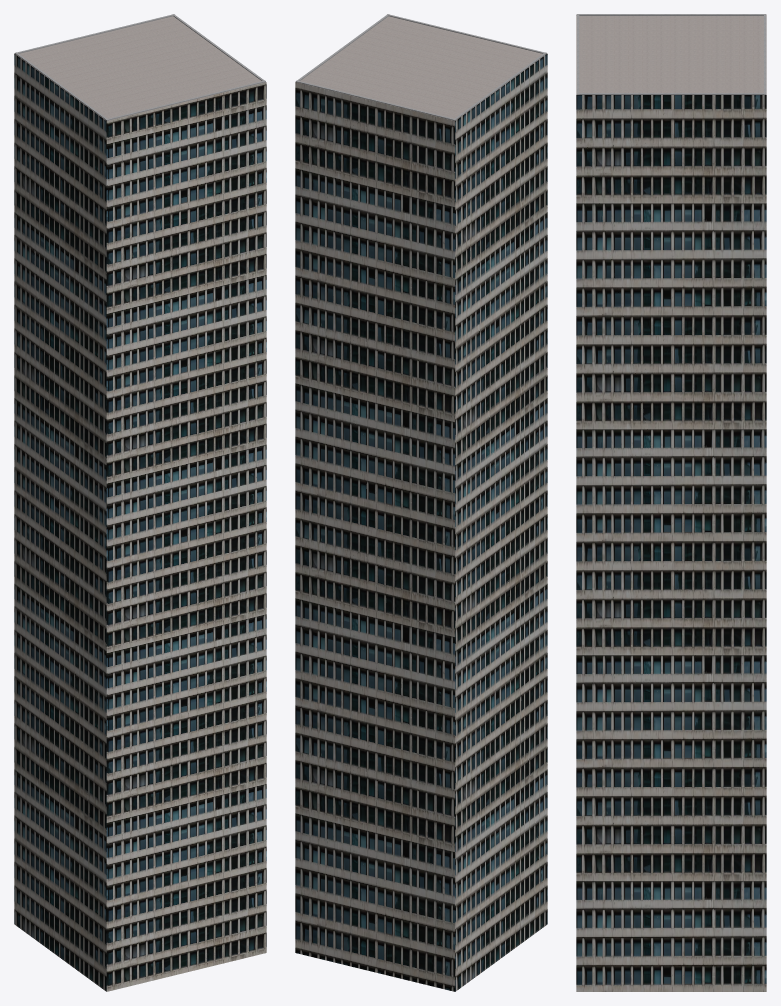
File: SkyScraper2.fbx
3 views of the same model, side by side, from view 1: azimuth 30°, elevation 25°; view 2: azimuth 150°, elevation 25°; view 3: azimuth 270°, elevation 25° (orthographic). The views are drawn at different scales.
Visible parts, largest first — view 1: Cube; view 2: Cube; view 3: Cube.
Boxes of the visible parts, bbox=[...] form: Cube: bbox=[14, 16, 266, 991]; Cube: bbox=[295, 16, 547, 991]; Cube: bbox=[576, 15, 766, 991].
Size of the model in its own units: 2113 by 11014 by 2113.
